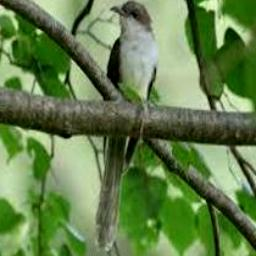Cuckoo: (96, 0, 158, 252)
